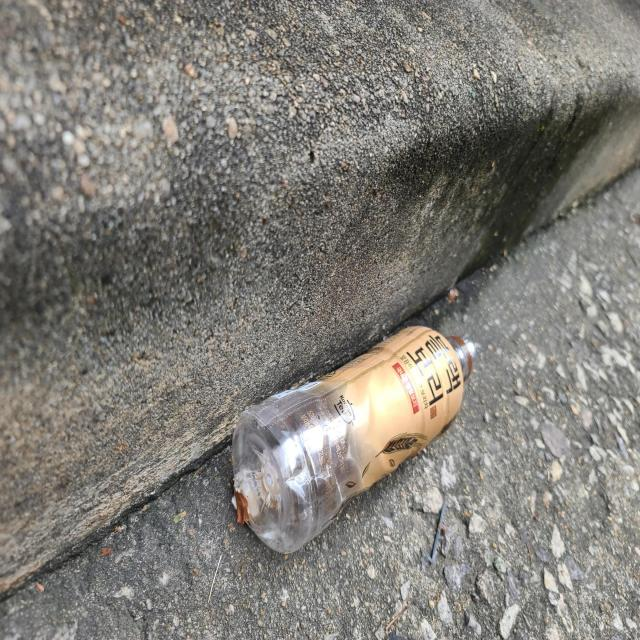plastic: (232, 327, 475, 554)
